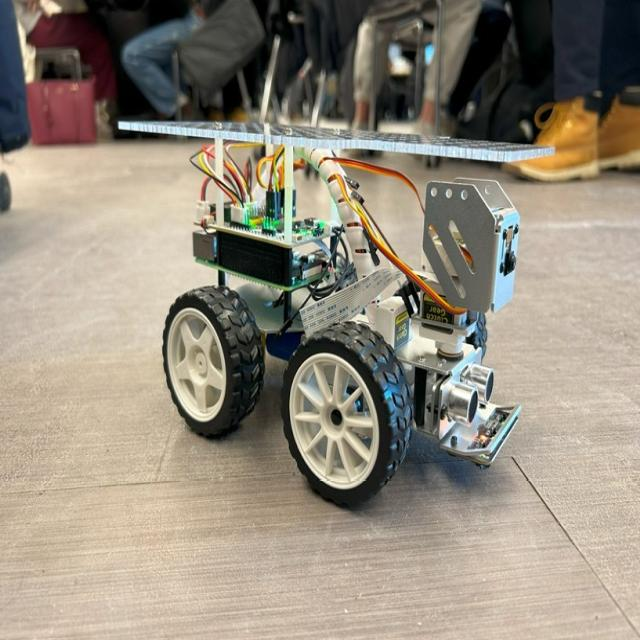vehicle: (107, 94, 563, 526)
